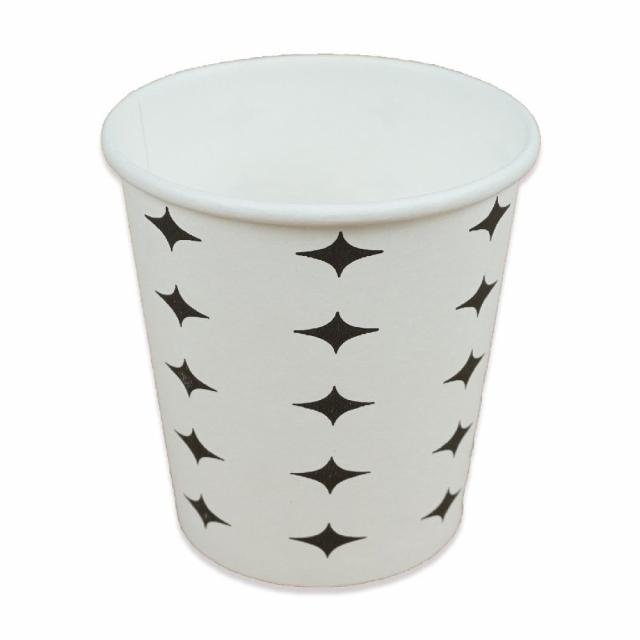trash: (79, 49, 593, 606)
